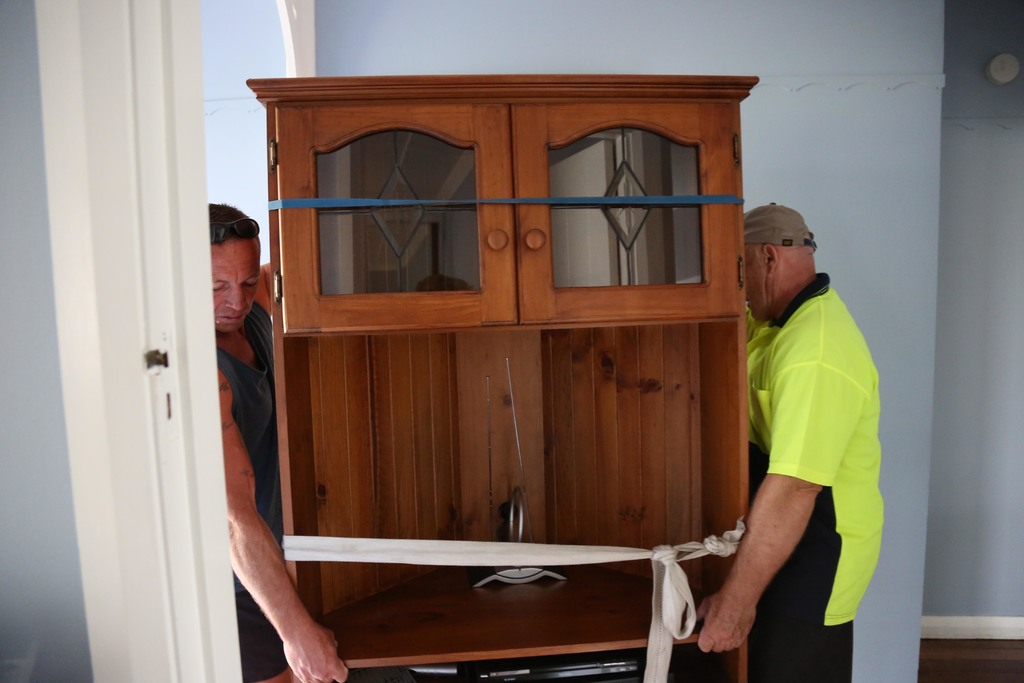cabinet door: (275, 112, 511, 320), (514, 110, 738, 311)
handle: (479, 226, 509, 255), (519, 225, 546, 257)
